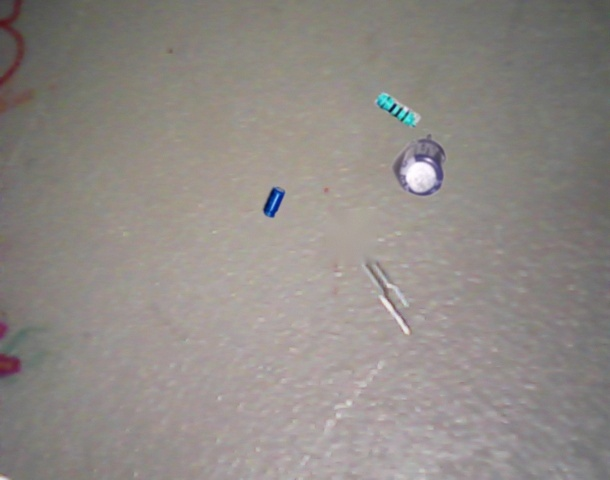capacitor: (391, 133, 447, 197), (263, 187, 286, 218)
resistor: (374, 91, 421, 129)
